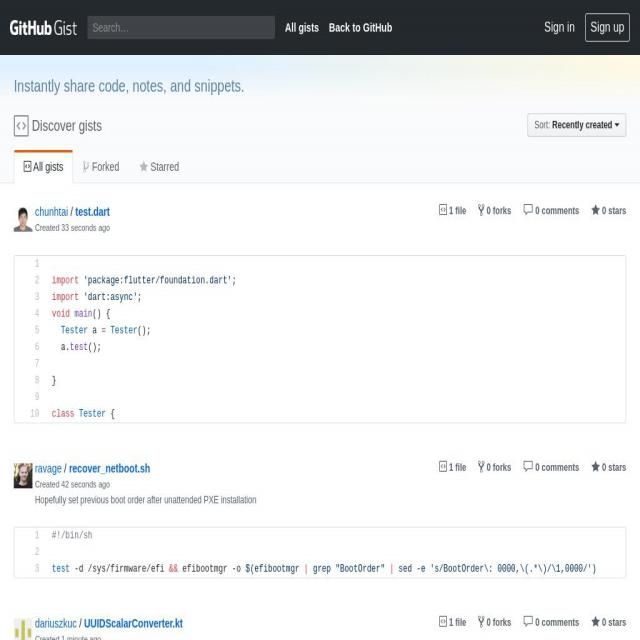button: (9, 5, 79, 45), (324, 12, 400, 44), (527, 113, 626, 137), (129, 150, 189, 183), (14, 150, 74, 183), (73, 150, 129, 183), (519, 195, 583, 222), (518, 608, 582, 634), (519, 454, 583, 479), (538, 11, 582, 44), (280, 12, 323, 44), (584, 13, 630, 42), (472, 607, 517, 634), (586, 196, 630, 223), (473, 454, 517, 481), (473, 195, 515, 222), (586, 456, 630, 480), (432, 454, 472, 479), (433, 196, 471, 222), (431, 608, 471, 632), (589, 609, 630, 631), (13, 206, 32, 236), (13, 464, 32, 494), (13, 618, 32, 640)
field: (14, 256, 626, 424), (14, 528, 625, 578), (87, 16, 275, 39)
